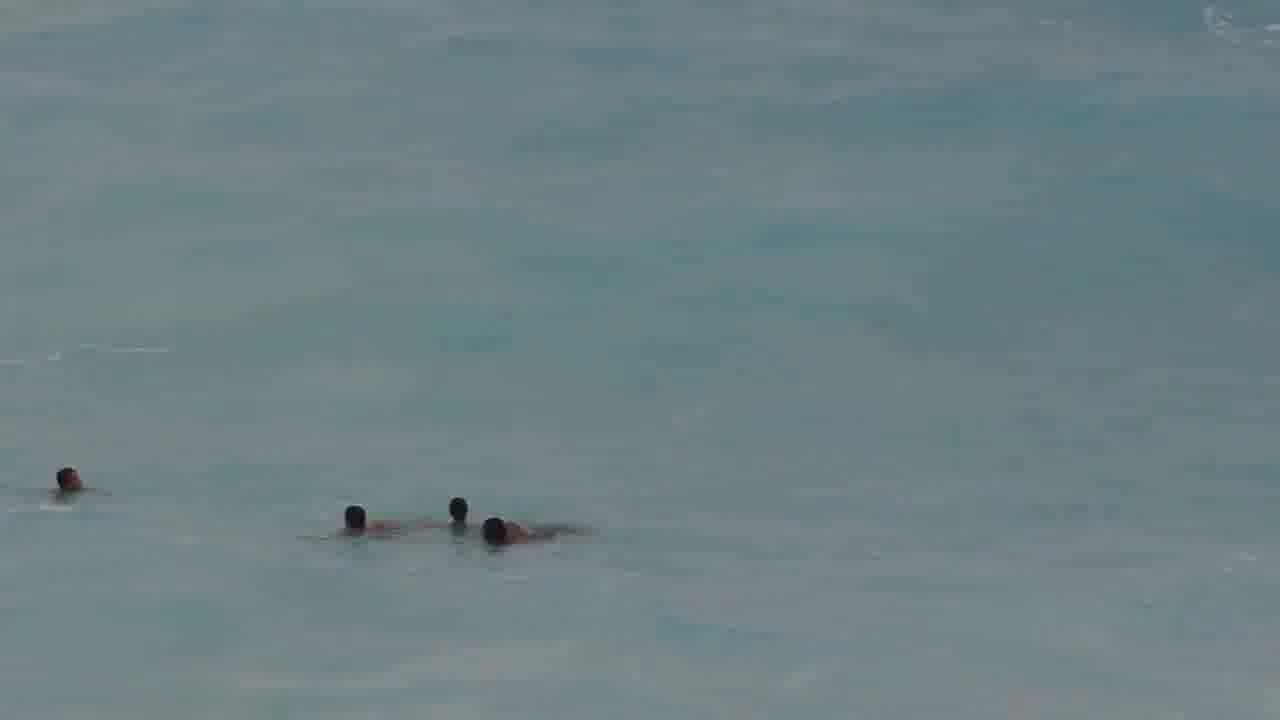human: (322, 501, 416, 541), (476, 512, 569, 549), (41, 460, 111, 498), (441, 495, 475, 530)
